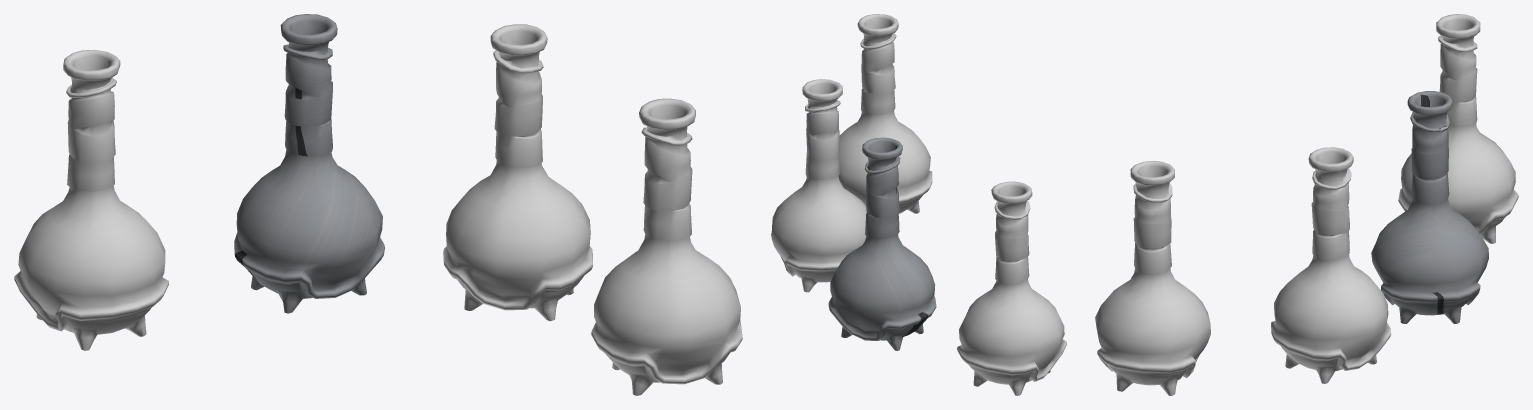
The picture shows the model from 3 angles, left to right: view 1: azimuth 30°, elevation 25°; view 2: azimuth 150°, elevation 25°; view 3: azimuth 270°, elevation 25°; orthographic projection. The views are drawn at different scales.
Parts seen in each view (by area): view 1: bottle_orange_0, bottle_green_0, bottle_blue_0, bottle_red_0; view 2: bottle_red_0, bottle_blue_0, bottle_green_0, bottle_orange_0; view 3: bottle_green_0, bottle_orange_0, bottle_red_0, bottle_blue_0.
Part boxes in pixels (<box>): bottle_orange_0: <box>591,98,742,395</box>; bottle_green_0: <box>443,24,592,321</box>; bottle_blue_0: <box>14,49,168,350</box>; bottle_red_0: <box>234,14,384,313</box>; bottle_red_0: <box>828,137,936,350</box>; bottle_blue_0: <box>957,181,1066,395</box>; bottle_green_0: <box>771,79,866,292</box>; bottle_orange_0: <box>838,14,932,213</box>; bottle_green_0: <box>1271,147,1391,383</box>; bottle_orange_0: <box>1095,160,1210,395</box>; bottle_red_0: <box>1371,91,1488,323</box>; bottle_blue_0: <box>1398,14,1518,243</box>.
Size of the model in its own units: 0.9557 by 0.4767 by 0.8711.
